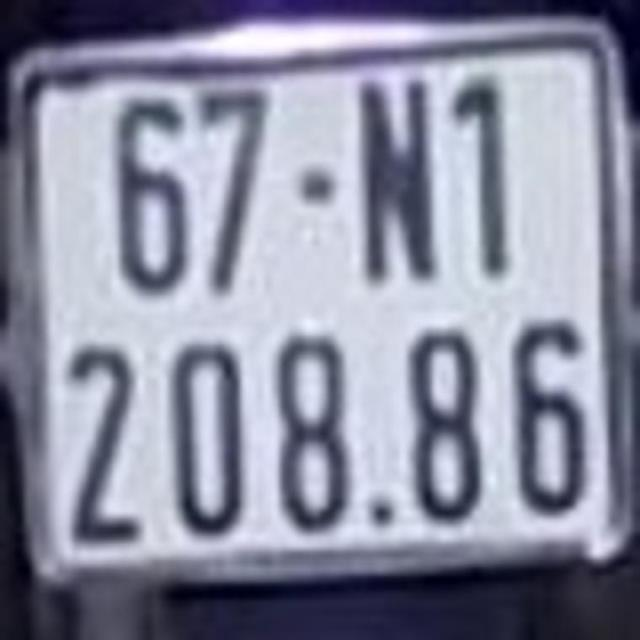0: (167, 334, 246, 537)
1: (452, 75, 520, 279)
2: (62, 340, 146, 548)
6: (112, 88, 190, 296), (512, 312, 590, 517)
7: (195, 82, 272, 296)
8: (275, 327, 350, 534), (409, 321, 483, 525)
N: (356, 76, 442, 284)
